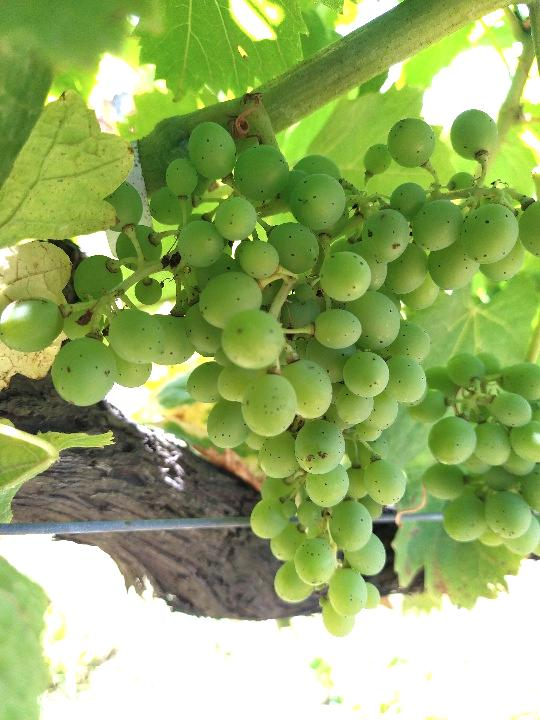grape: (4, 108, 533, 638)
